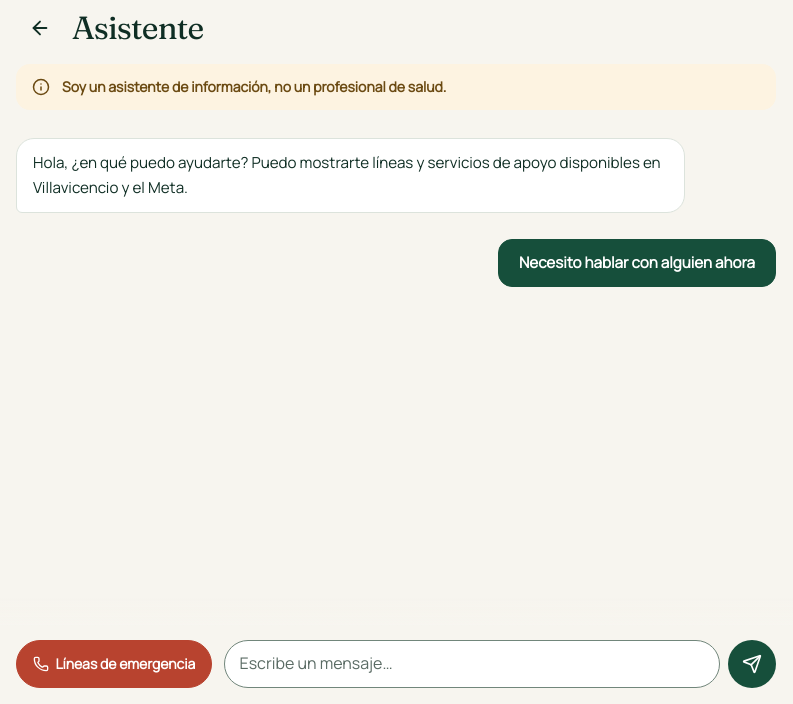
asistente › no guarda la conversación en el navegador
Type "Me siento con ansiedad" into the field labelled "Escribe un mensaje" at (472, 664), box [224,640,720,688]
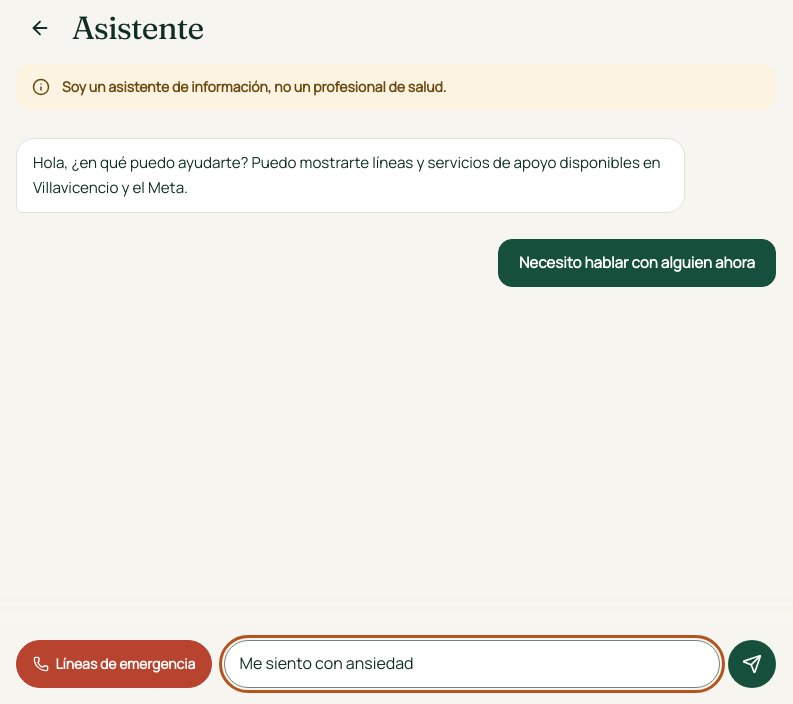
Click the button named "Enviar mensaje" at (752, 664), box [728,640,776,688]
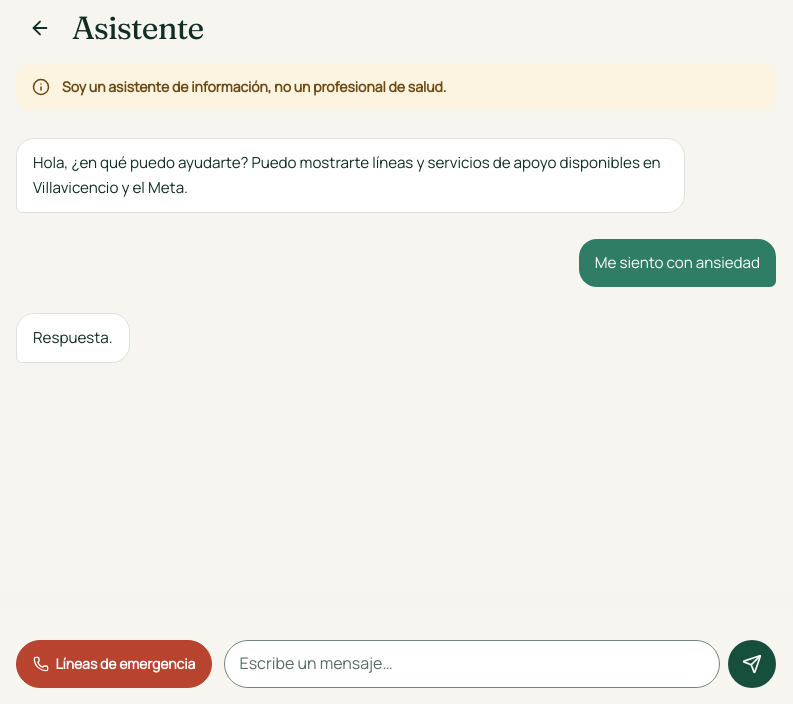
Check: the text "Respuesta." is shown, box [16,312,130,363]
